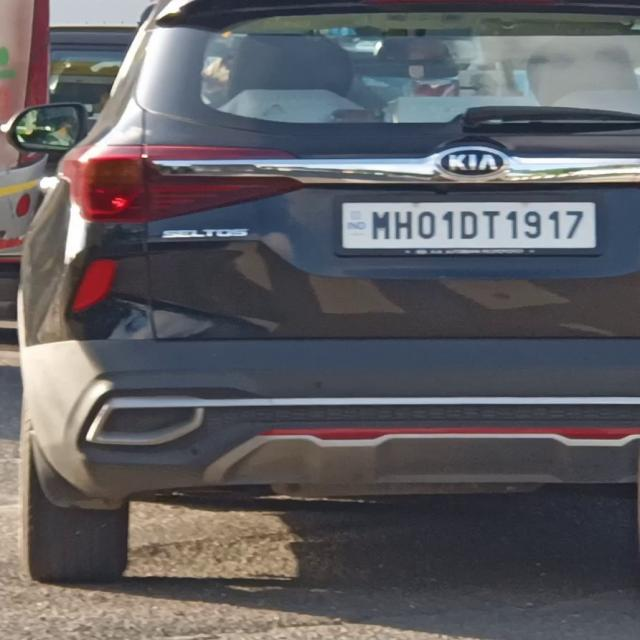Plate: (339, 200, 596, 250)
